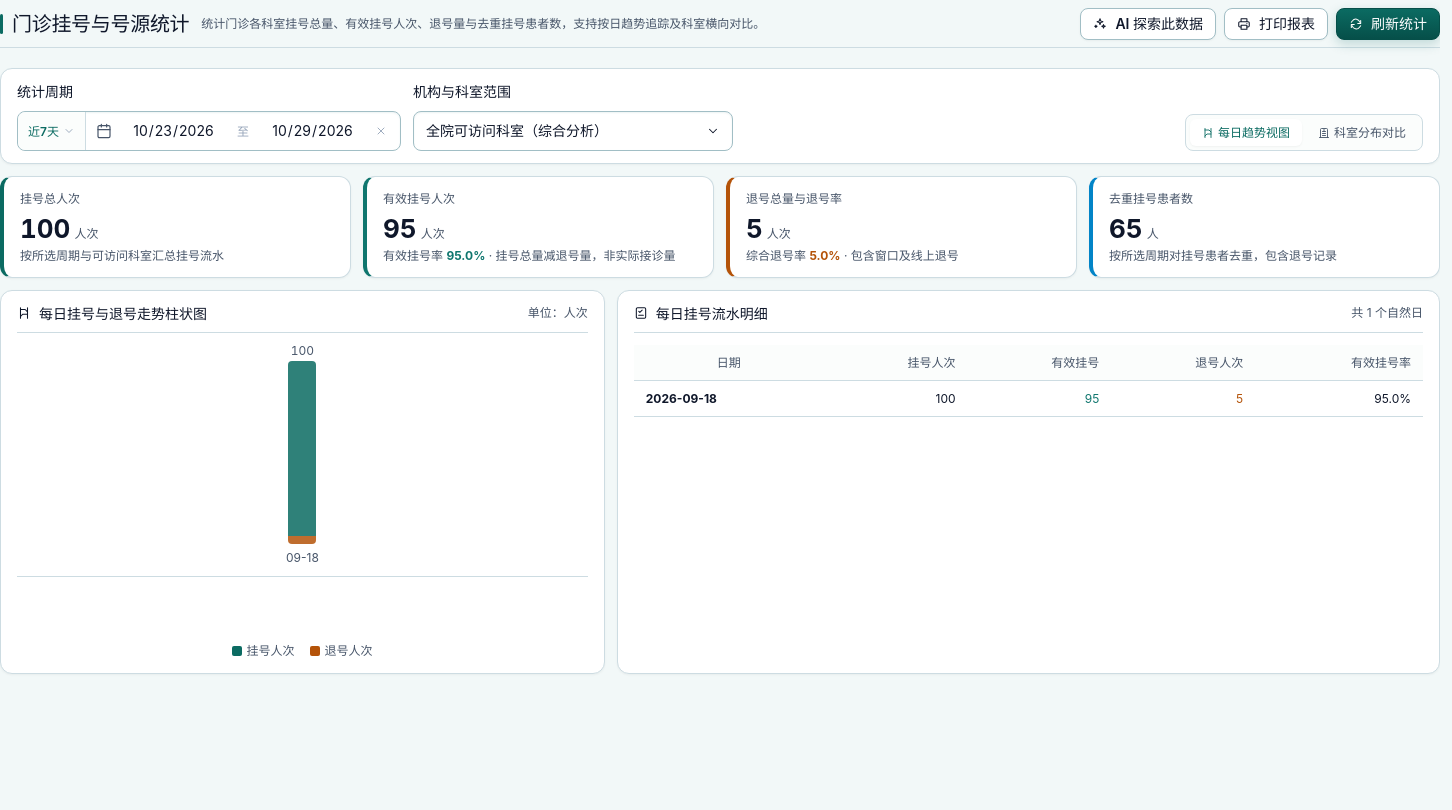
Test: OutpatientRegistrationReport › renders registration report with KPIs and department distribution view
Check: the heading "门诊挂号与号源统计" is shown, box [12, 10, 189, 38]
Check: the text "AI 探索此数据" is shown, box [1093, 16, 1203, 30]
# 切换至科室全景对比视图
Click the button "科室分布对比". click: (1362,133)
box: [1306, 119, 1418, 146]
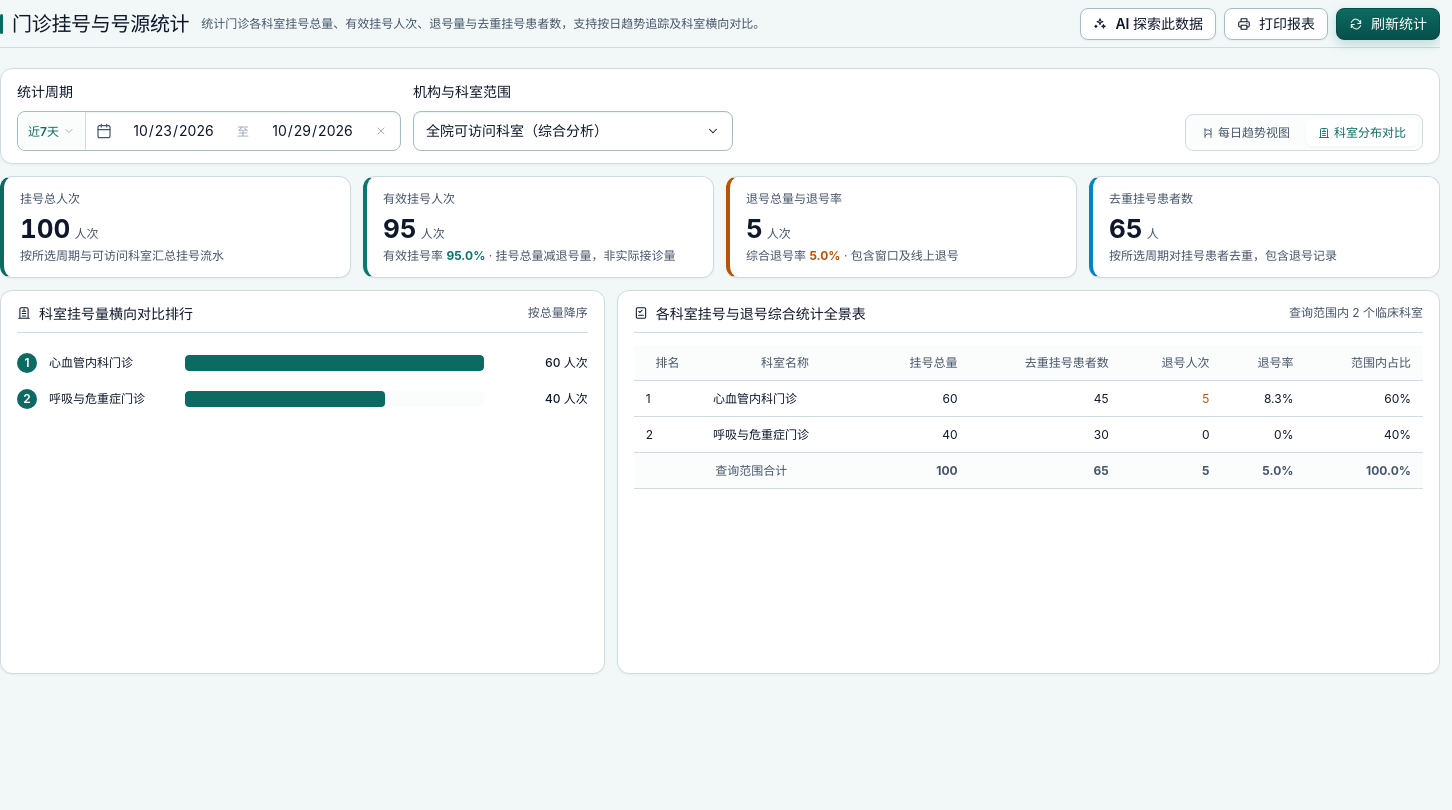
Check: the element named "门诊挂号统计报表" shows "各科室挂号与退号综合统计全景表", box [656, 305, 866, 322]
Check: the element named "门诊挂号统计报表" shows "心血管内科门诊", box [49, 355, 133, 370]
